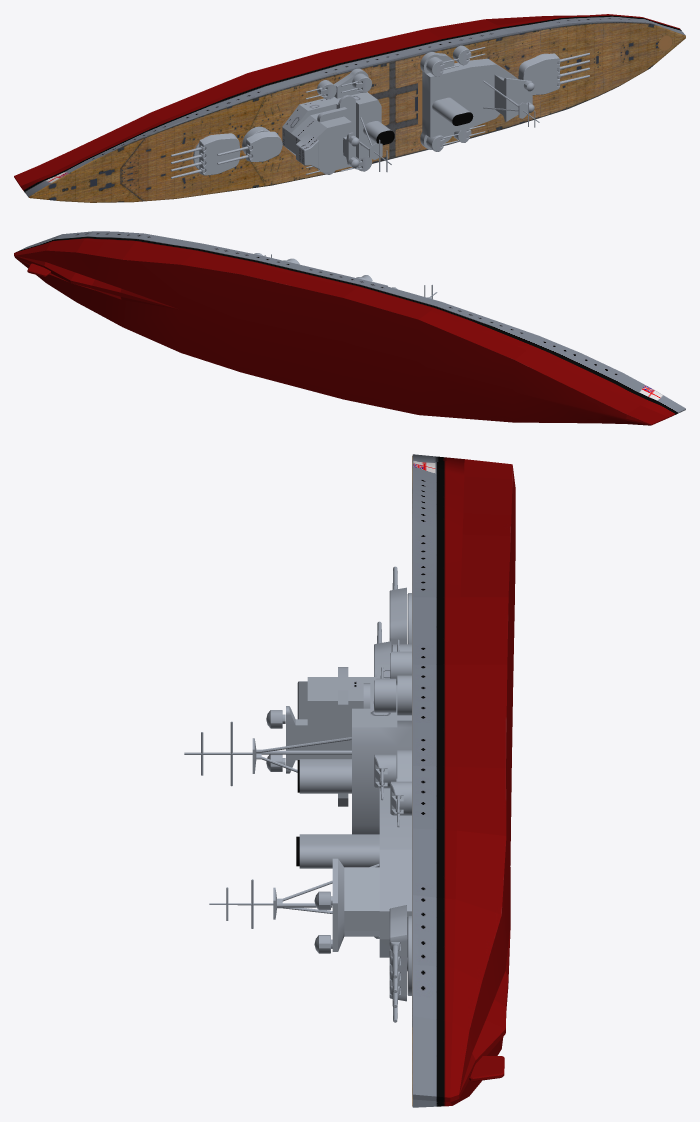
Rendered from 14083_WWII_ship - UK - King_George_V_Class_Battleship_v1_L1.obj.
The picture shows the model from 3 angles, top to bottom: view 1: azimuth 30°, elevation 25°; view 2: azimuth 150°, elevation 25°; view 3: azimuth 270°, elevation 25°; orthographic projection. The views are drawn at different scales.
Parts seen in each view (by area): view 1: _King_George_V_body, _King_George_V_detail; view 2: _King_George_V_body, _King_George_V_detail; view 3: _King_George_V_body, _King_George_V_detail.
Part boxes in pixels (<box>): _King_George_V_body: <box>14,14,685,202</box>; _King_George_V_detail: <box>170,45,589,178</box>; _King_George_V_body: <box>14,231,685,425</box>; _King_George_V_detail: <box>27,253,437,299</box>; _King_George_V_body: <box>412,454,515,1107</box>; _King_George_V_detail: <box>184,566,504,1081</box>.
Size of the model in its own units: 2.67 by 0.391 by 0.5807.
